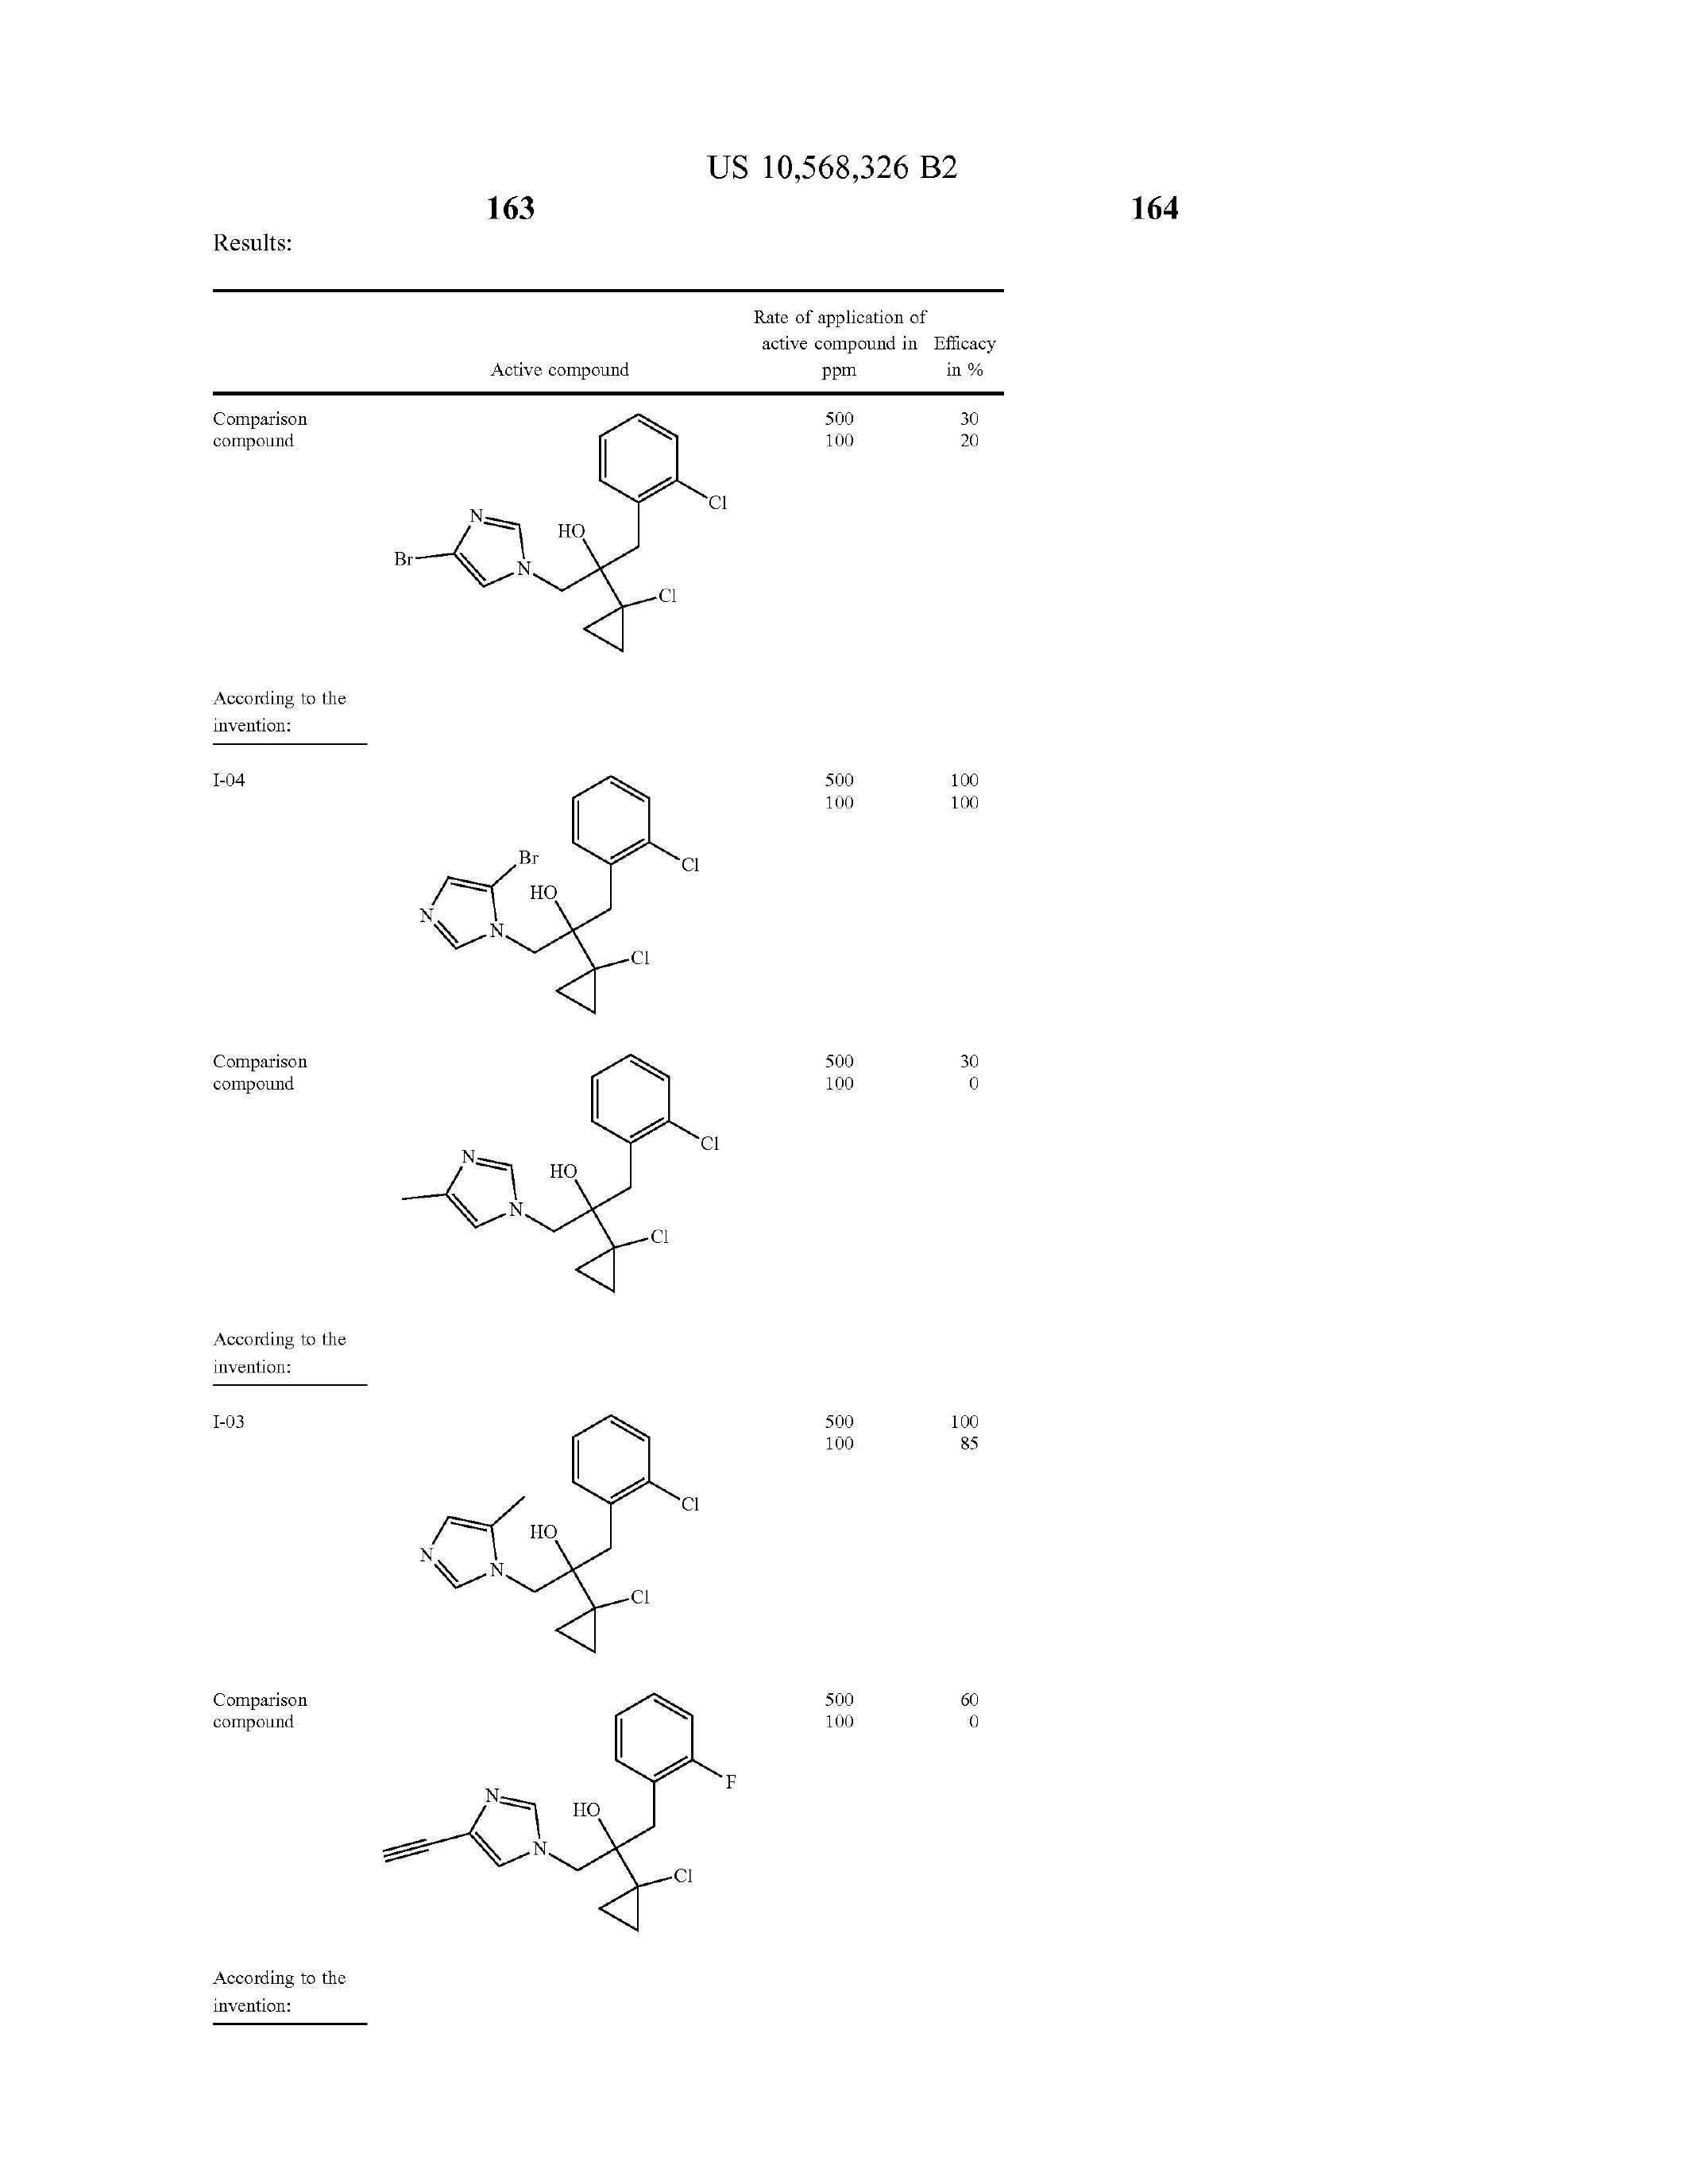relevant-structures: (337, 1689, 814, 1991), (353, 1058, 801, 1358), (381, 1395, 785, 1682), (365, 411, 761, 679), (388, 739, 729, 1023)
